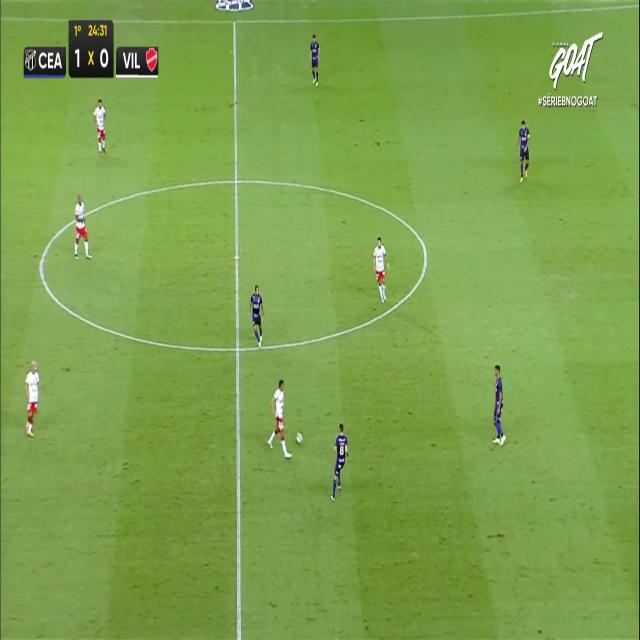ball: (296, 432, 302, 443)
player: (267, 378, 291, 457), (331, 421, 350, 500), (74, 194, 92, 259), (24, 360, 39, 436), (373, 236, 390, 302), (493, 364, 504, 446), (250, 285, 264, 348), (92, 97, 107, 152), (517, 118, 530, 181), (309, 33, 320, 86)
